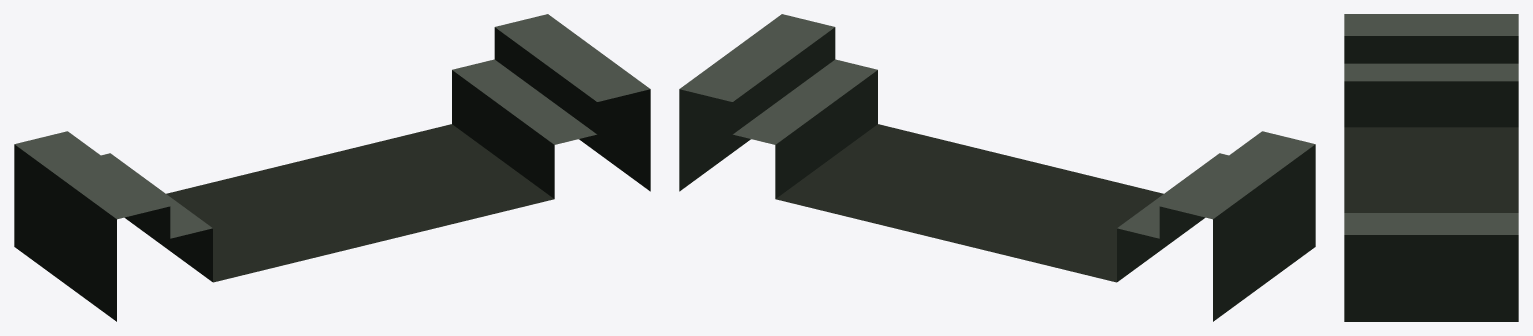
File: SF_Bld_Elven_Stream_Straight_01.glb
3 renders of one model, left to right at view 1: azimuth 30°, elevation 25°; view 2: azimuth 150°, elevation 25°; view 3: azimuth 270°, elevation 25°, orthographic. The views are drawn at different scales.
Visible parts, largest first — view 1: SF_Env_Elven_Stream_Straight_01; view 2: SF_Env_Elven_Stream_Straight_01; view 3: SF_Env_Elven_Stream_Straight_01.
Boxes of the visible parts, x1,y1,x2,y2 form: SF_Env_Elven_Stream_Straight_01: [14, 14, 650, 321]; SF_Env_Elven_Stream_Straight_01: [679, 14, 1315, 321]; SF_Env_Elven_Stream_Straight_01: [1344, 14, 1518, 321].
Size of the model in its own units: 0.03 by 0.00551 by 0.01.
Materials: 1 (1 with a texture image).
